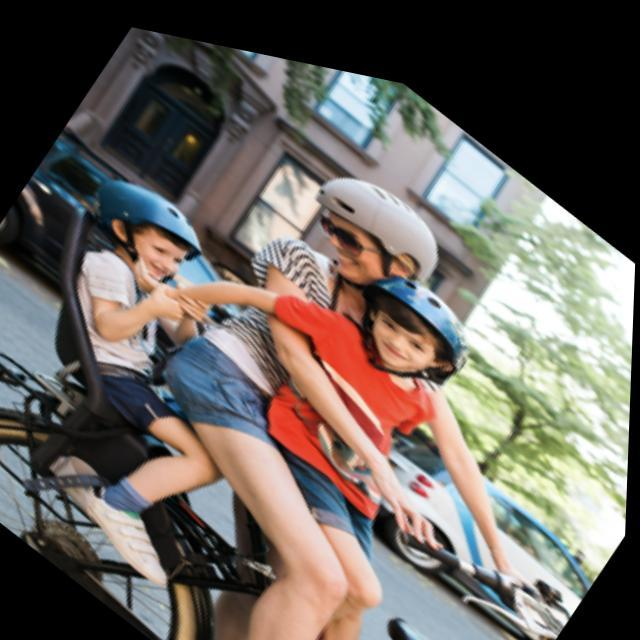Helmet: (310, 160, 446, 302), (89, 170, 211, 297), (356, 268, 474, 390)
